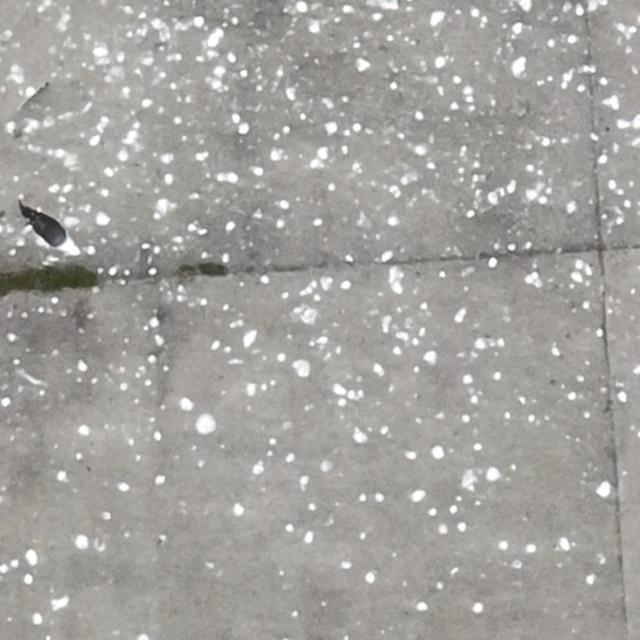umineko: (33, 215, 80, 258)
